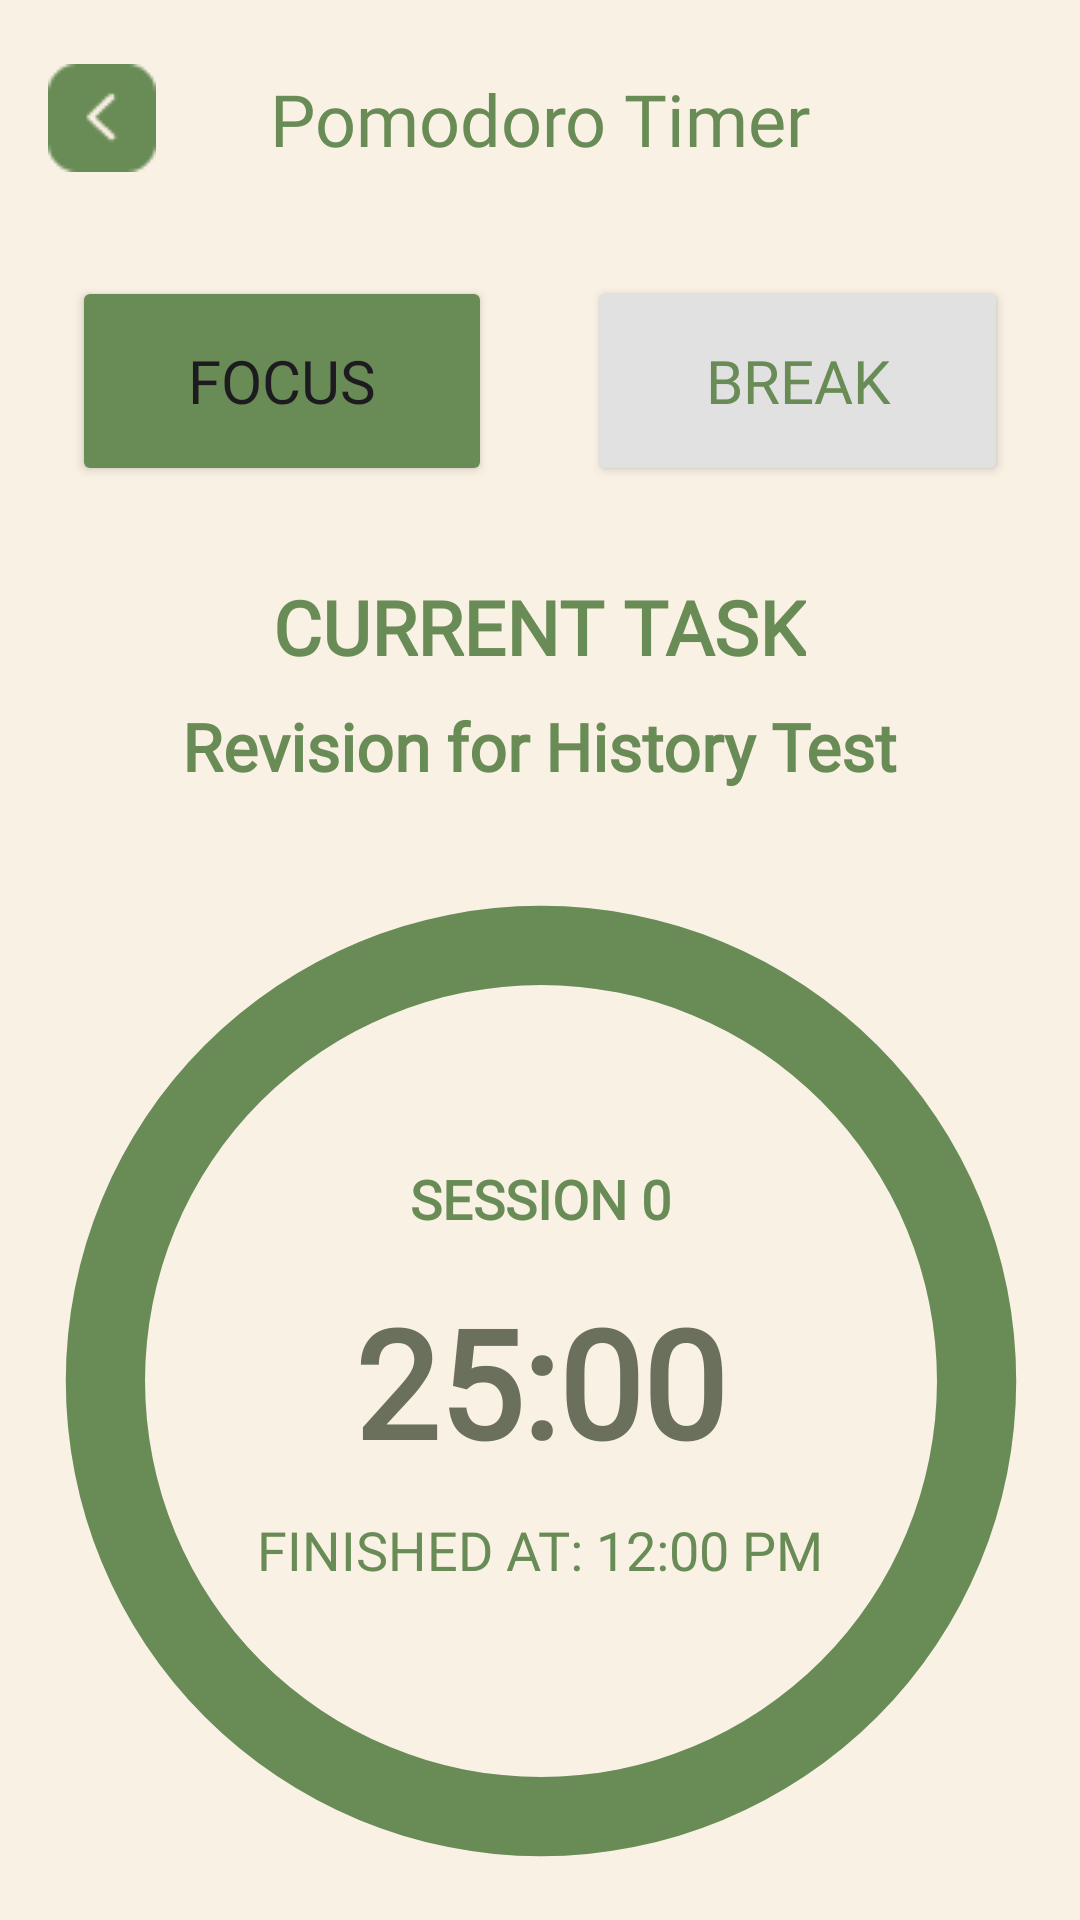

Named icons in this screenshot (1080px×1920px) and their bounding boxes, rect(x1, y1, x2, y2):
Back Button: rect(48, 64, 156, 172)
